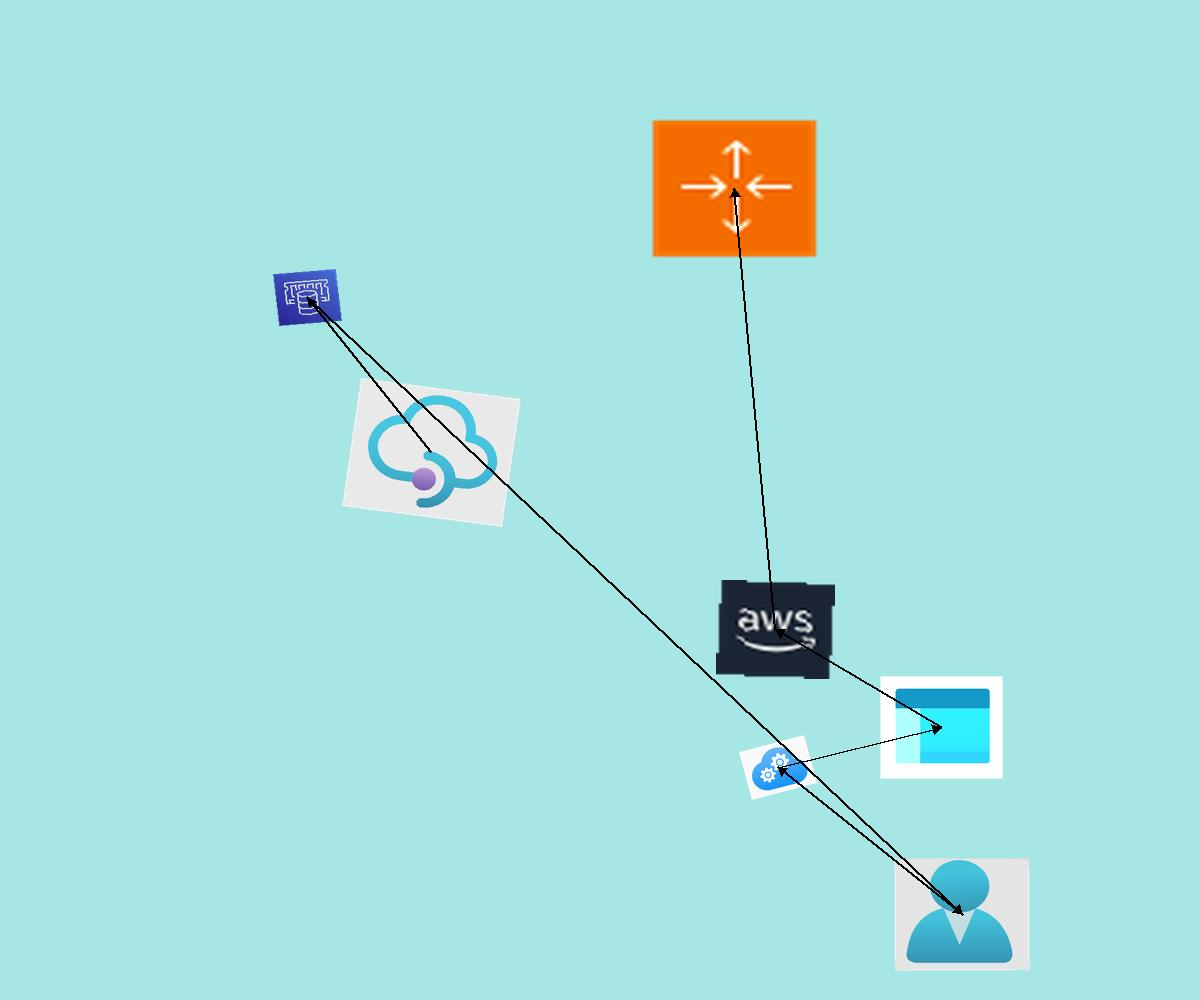AWS-Cloud-logo: (716, 580, 835, 679)
AWS-ElastiCache: (273, 269, 342, 326)
AWS-Scaling-group: (649, 117, 820, 260)
Azure_api_gateway: (342, 378, 521, 527)
Azure_cloud_services: (739, 735, 817, 800)
Azure_management-portal: (880, 676, 1003, 779)
Azure_users: (894, 858, 1030, 971)
